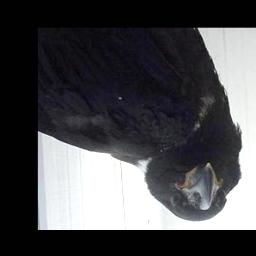Crow: (39, 28, 246, 224)
